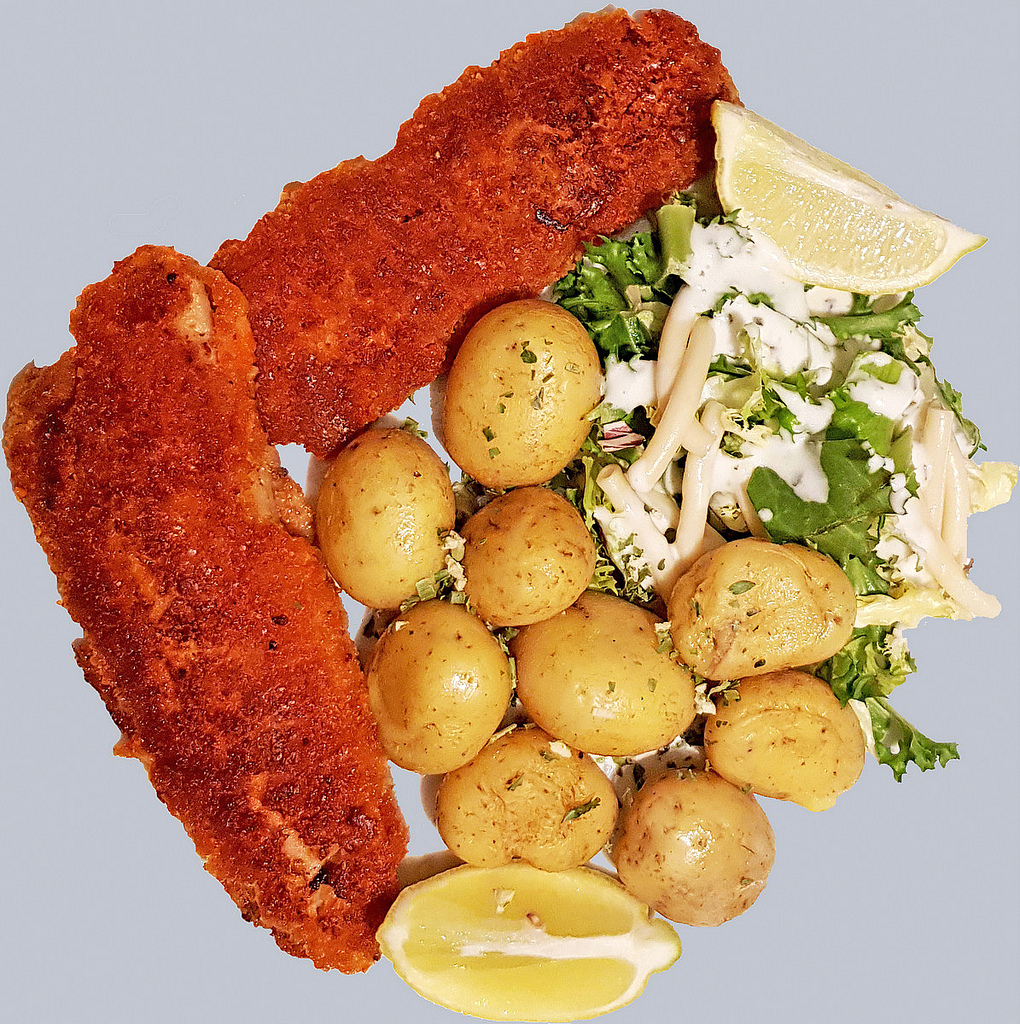boiled potatoes: (348, 440, 691, 801)
